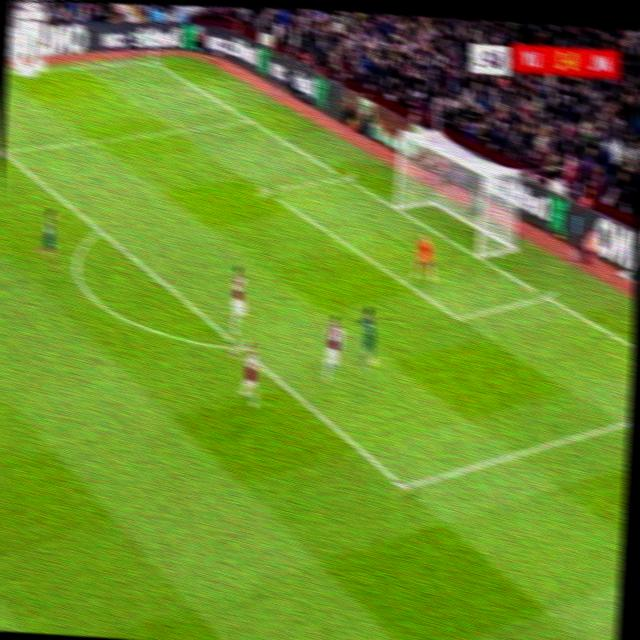bigarea_bottom_inner: (392, 471, 418, 501)
bigarea_top_inner: (0, 138, 16, 162)
bigarea_top_outter: (241, 109, 261, 130)
bottom_arc_area_intersection: (229, 335, 251, 358)
corner: (142, 52, 163, 68)
smallarea_bottom_inner: (447, 302, 473, 332)
smallarea_bottom_outter: (533, 280, 558, 309)
smallarea_top_inner: (257, 178, 279, 202)
smallarea_top_outter: (334, 165, 356, 186)
top_arc_area_intersection: (90, 218, 109, 240)
